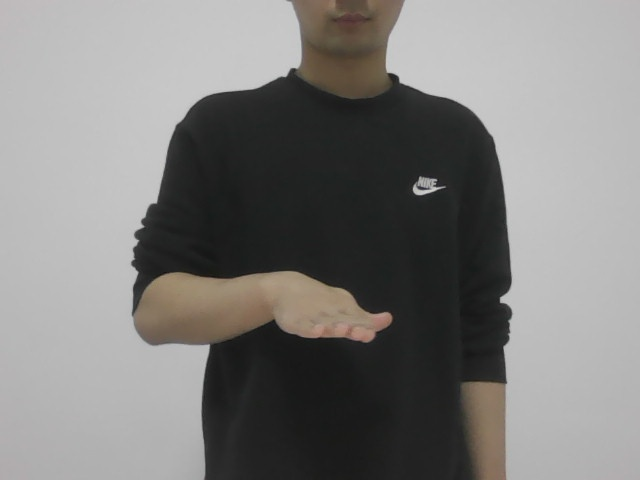slow: (243, 255, 398, 351)
